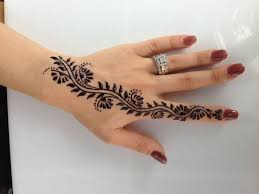hand: (51, 24, 253, 167)
